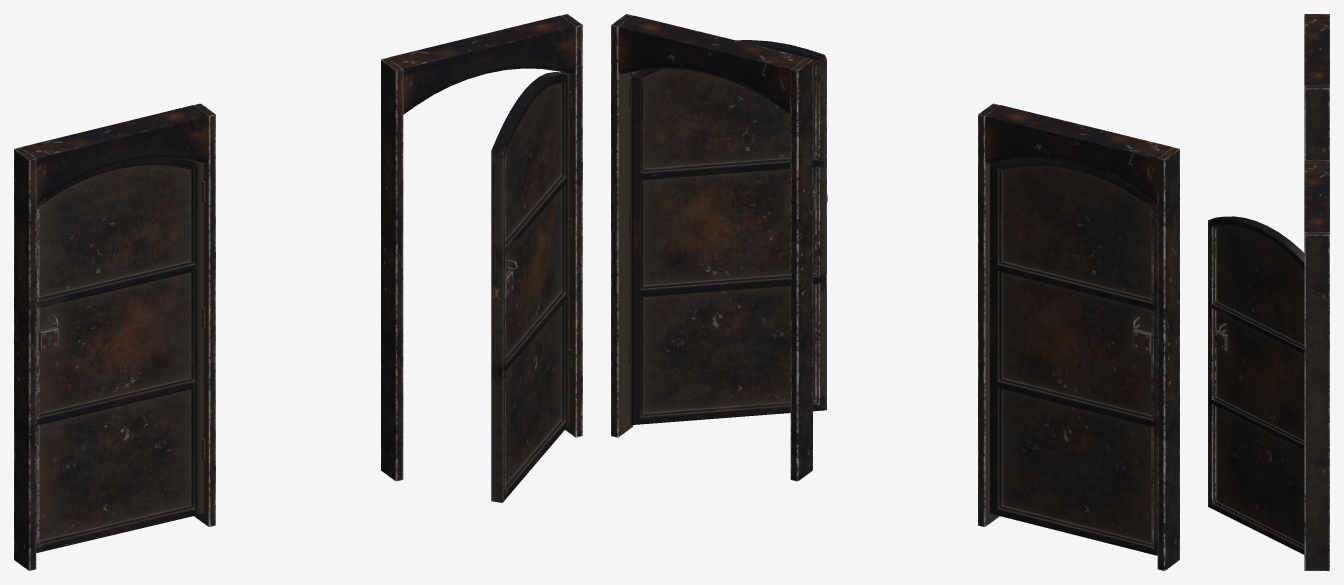
Rendered from metal door.gltf.
3 views of the same model, side by side, from view 1: azimuth 30°, elevation 25°; view 2: azimuth 150°, elevation 25°; view 3: azimuth 270°, elevation 25° (orthographic). The views are drawn at different scales.
Parts seen in each view (by area): view 1: Null, Null_1; view 2: Null_1, Null; view 3: Null_1, Null.
Boxes of the visible parts, x1,y1,x2,y2 form: Null: (14,103,215,570); Null_1: (381,14,582,502); Null_1: (611,14,827,481); Null: (978,103,1179,570); Null_1: (1208,160,1329,570); Null: (1304,14,1329,160).
Size of the model in its own units: 3.54 by 2.51 by 0.8246.
2 materials, 2 textured.
